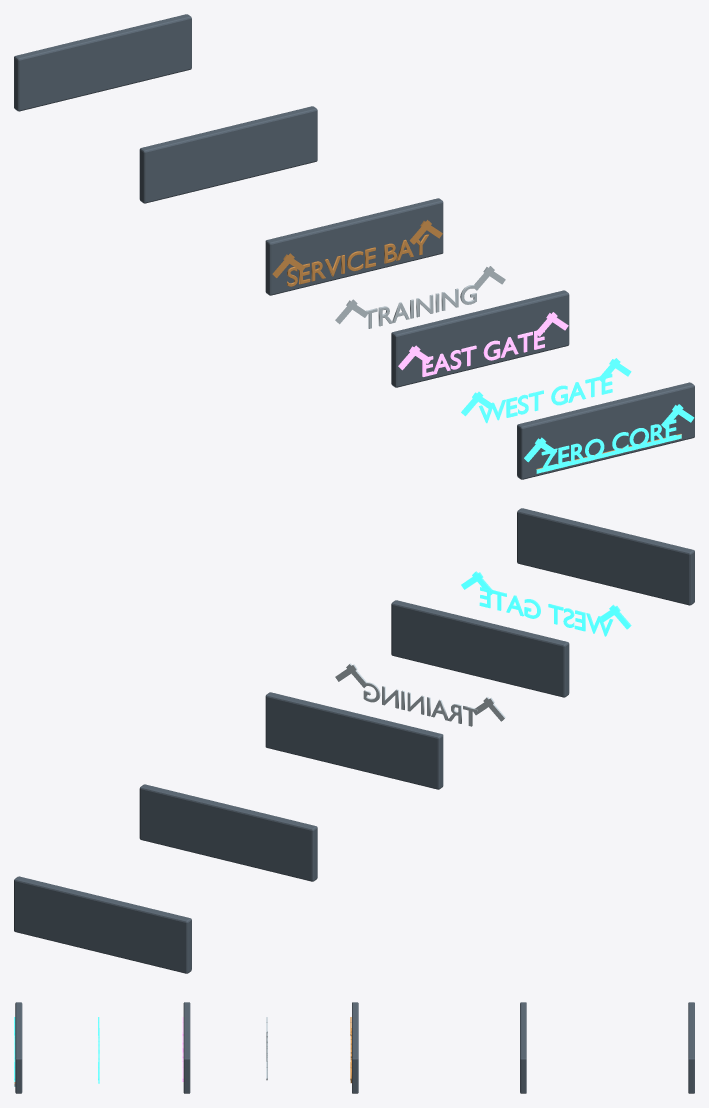
The model's file is zone-markers.glb.
3 renders of one model, top to bottom at view 1: azimuth 30°, elevation 25°; view 2: azimuth 150°, elevation 25°; view 3: azimuth 270°, elevation 25°, orthographic. The views are drawn at different scales.
Visible parts, largest first — view 1: Visual_ZoneMarker_Plate_N1, Visual_ZoneMarker_Plate_S1, Visual_ZoneMarker_Plate_W1, Visual_ZoneMarker_Plate_E1, Visual_ZoneMarker_Plate_C0, Visual_Merged_ZA_ZoneMarker_C0_Zero_Cyan_Emissive, Visual_Merged_ZA_ZoneMarker_S1_Warning_Orange, Visual_Merged_ZA_ZoneMarker_W1_Zero_Cyan_Emissive, Visual_Merged_ZA_ZoneMarker_N1_Interface_White, Visual_Merged_ZA_ZoneMarker_E1_Route_Magenta_Emissive; view 2: Visual_ZoneMarker_Plate_N1, Visual_ZoneMarker_Plate_W1, Visual_ZoneMarker_Plate_E1, Visual_ZoneMarker_Plate_C0, Visual_ZoneMarker_Plate_S1, Visual_Merged_ZA_ZoneMarker_W1_Zero_Cyan_Emissive, Visual_Merged_ZA_ZoneMarker_N1_Interface_White; view 3: Visual_ZoneMarker_Plate_C0, Visual_ZoneMarker_Plate_W1, Visual_ZoneMarker_Plate_N1, Visual_ZoneMarker_Plate_S1, Visual_ZoneMarker_Plate_E1.
Boxes of the visible parts, <box> form: Visual_ZoneMarker_Plate_N1: <box>139,106,317,203</box>; Visual_ZoneMarker_Plate_S1: <box>14,14,191,111</box>; Visual_ZoneMarker_Plate_W1: <box>391,290,569,387</box>; Visual_ZoneMarker_Plate_E1: <box>265,198,443,295</box>; Visual_ZoneMarker_Plate_C0: <box>517,382,694,479</box>; Visual_Merged_ZA_ZoneMarker_C0_Zero_Cyan_Emissive: <box>524,404,694,473</box>; Visual_Merged_ZA_ZoneMarker_S1_Warning_Orange: <box>272,220,681,472</box>; Visual_Merged_ZA_ZoneMarker_W1_Zero_Cyan_Emissive: <box>461,358,631,473</box>; Visual_Merged_ZA_ZoneMarker_N1_Interface_White: <box>335,266,681,473</box>; Visual_Merged_ZA_ZoneMarker_E1_Route_Magenta_Emissive: <box>398,312,568,376</box>; Visual_ZoneMarker_Plate_N1: <box>139,784,317,881</box>; Visual_ZoneMarker_Plate_W1: <box>391,600,569,697</box>; Visual_ZoneMarker_Plate_E1: <box>265,692,443,789</box>; Visual_ZoneMarker_Plate_C0: <box>517,508,694,605</box>; Visual_ZoneMarker_Plate_S1: <box>14,876,191,973</box>; Visual_Merged_ZA_ZoneMarker_W1_Zero_Cyan_Emissive: <box>461,571,631,636</box>; Visual_Merged_ZA_ZoneMarker_N1_Interface_White: <box>335,663,505,726</box>; Visual_ZoneMarker_Plate_C0: <box>15,1002,22,1093</box>; Visual_ZoneMarker_Plate_W1: <box>183,1002,190,1093</box>; Visual_ZoneMarker_Plate_N1: <box>520,1002,526,1093</box>; Visual_ZoneMarker_Plate_S1: <box>688,1002,694,1093</box>; Visual_ZoneMarker_Plate_E1: <box>352,1002,358,1093</box>.
Bounding box in the file's own units: 2.4 × 0.7 × 12.15.
